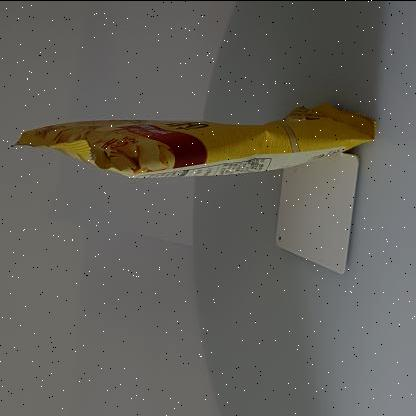Others: (4, 89, 384, 187)
